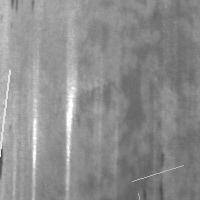scratches: (61, 52, 80, 196), (127, 160, 188, 186), (0, 65, 14, 174), (28, 88, 41, 197), (133, 188, 166, 200)
